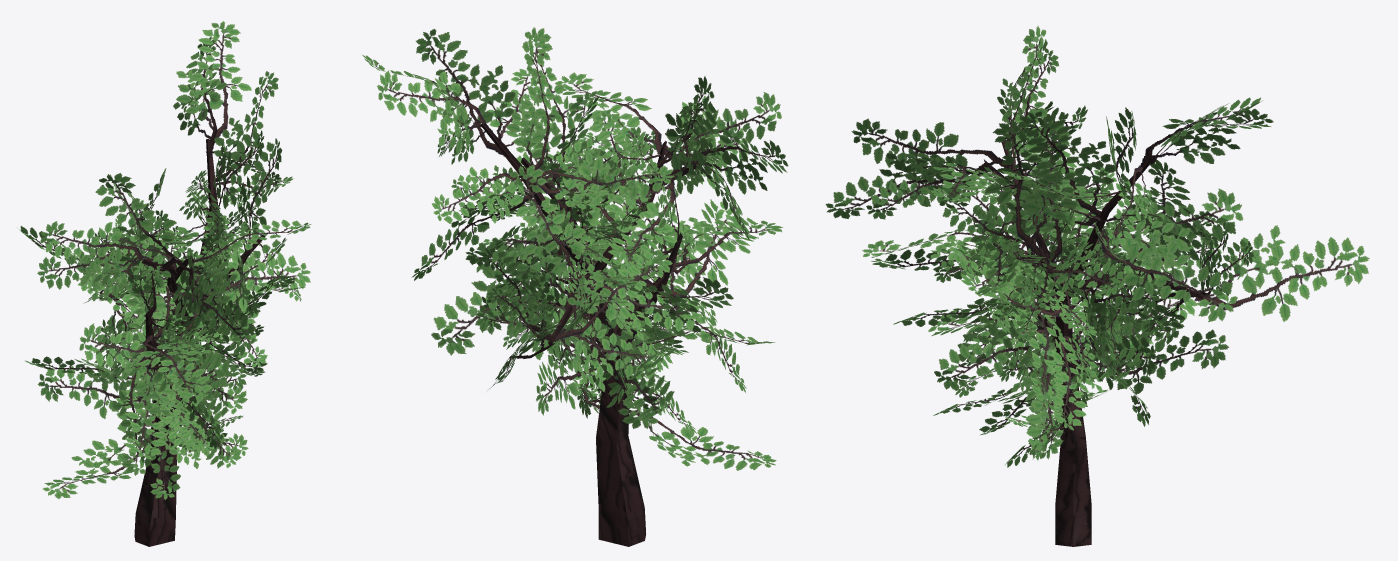
Rendered from HP_Tree2.glb.
3 renders of one model, left to right at view 1: azimuth 30°, elevation 25°; view 2: azimuth 150°, elevation 25°; view 3: azimuth 270°, elevation 25°, orthographic. The views are drawn at different scales.
Parts seen in each view (by area): view 1: Cube, HP_tree_branch.091, HP_tree_branch.086, HP_tree_branch.081, HP_tree_branch.088, HP_tree_branch.045, HP_tree_branch.076, HP_tree_branch.010, HP_tree_branch.071, HP_tree_branch.042, HP_tree_branch.011, HP_tree_branch.069 (+42 smaller); view 2: Cube, HP_tree_branch.098, HP_tree_branch.053, HP_tree_branch.093, HP_tree_branch.096, HP_tree_branch.041, HP_tree_branch.055, HP_tree_branch.058, HP_tree_branch.086, HP_tree_branch.056, HP_tree_branch.097, HP_tree_branch.084 (+45 smaller); view 3: Cube, HP_tree_branch.100, HP_tree_branch.057, HP_tree_branch.032, HP_tree_branch.059, HP_tree_branch.055, HP_tree_branch.083, HP_tree_branch.068, HP_tree_branch.014, HP_tree_branch.088, HP_tree_branch.093, HP_tree_branch.036 (+40 smaller).
Boxes of the visible parts, x1,y1,x2,y2 form: Cube: [108, 139, 265, 546]; HP_tree_branch.091: [176, 21, 251, 142]; HP_tree_branch.086: [95, 173, 176, 268]; HP_tree_branch.081: [40, 221, 144, 285]; HP_tree_branch.088: [188, 259, 255, 356]; HP_tree_branch.045: [167, 241, 310, 311]; HP_tree_branch.076: [112, 350, 174, 475]; HP_tree_branch.010: [37, 350, 155, 418]; HP_tree_branch.071: [137, 335, 213, 398]; HP_tree_branch.042: [37, 242, 153, 301]; HP_tree_branch.011: [42, 433, 152, 499]; HP_tree_branch.069: [79, 323, 174, 400]; Cube: [480, 123, 694, 546]; HP_tree_branch.098: [505, 164, 586, 309]; HP_tree_branch.053: [415, 29, 515, 160]; HP_tree_branch.093: [377, 70, 492, 154]; HP_tree_branch.096: [556, 250, 672, 340]; HP_tree_branch.041: [604, 174, 677, 276]; HP_tree_branch.055: [506, 32, 562, 184]; HP_tree_branch.058: [532, 158, 674, 213]; HP_tree_branch.086: [648, 76, 716, 197]; HP_tree_branch.056: [431, 238, 564, 355]; HP_tree_branch.097: [555, 317, 662, 391]; HP_tree_branch.084: [555, 72, 664, 155]; Cube: [984, 136, 1202, 546]; HP_tree_branch.100: [1194, 225, 1369, 321]; HP_tree_branch.057: [1092, 214, 1237, 322]; HP_tree_branch.032: [984, 120, 1077, 256]; HP_tree_branch.059: [1076, 188, 1243, 281]; HP_tree_branch.055: [1018, 111, 1117, 217]; HP_tree_branch.083: [851, 118, 1013, 194]; HP_tree_branch.068: [1067, 319, 1229, 394]; HP_tree_branch.014: [934, 312, 1054, 390]; HP_tree_branch.088: [825, 152, 992, 218]; HP_tree_branch.093: [1138, 108, 1273, 167]; HP_tree_branch.036: [1001, 119, 1085, 262].
Size of the model in its own units: 19.14 by 27.67 by 26.79.
Materials: 2 (2 with a texture image).
